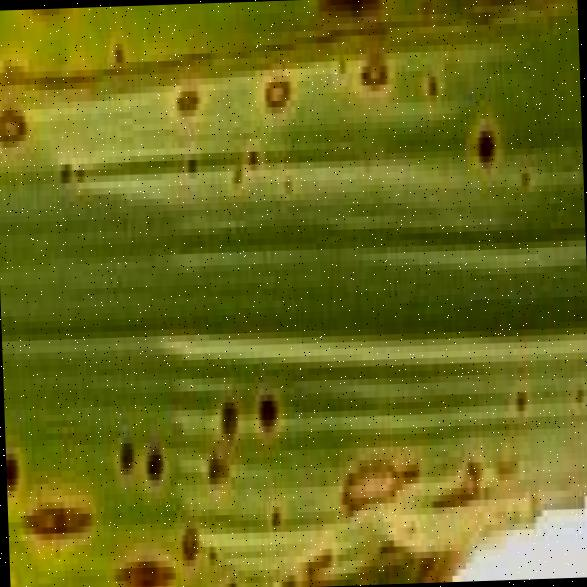Brown_Spot: (421, 417, 516, 520), (18, 470, 96, 584), (330, 414, 423, 505), (254, 43, 302, 120), (108, 535, 172, 587), (353, 15, 389, 104), (166, 53, 205, 135), (108, 399, 140, 493), (464, 93, 503, 169), (138, 404, 167, 486), (213, 370, 240, 453), (46, 145, 88, 196), (202, 433, 237, 490), (250, 382, 281, 438), (5, 429, 22, 528), (170, 503, 199, 554), (418, 50, 446, 102), (262, 488, 284, 538), (101, 18, 124, 62), (0, 103, 29, 135)
